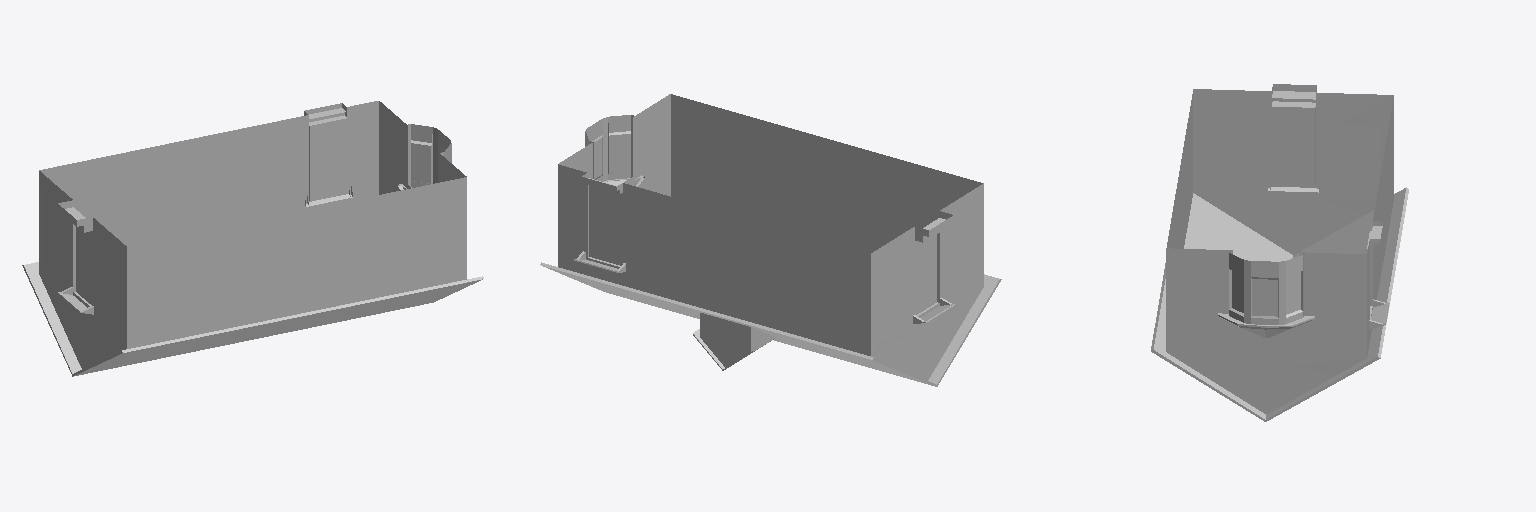
The model's file is cottage.obj.
3 views of the same model, side by side, from view 1: azimuth 30°, elevation 25°; view 2: azimuth 150°, elevation 25°; view 3: azimuth 270°, elevation 25° (orthographic).
Visible parts, largest first — view 1: Cube_Cube.002; view 2: Cube_Cube.002; view 3: Cube_Cube.002.
Part boxes in pixels (bbox=[...]): Cube_Cube.002: bbox=[22, 101, 483, 376]; Cube_Cube.002: bbox=[540, 94, 1001, 386]; Cube_Cube.002: bbox=[1151, 84, 1408, 421].
Size of the model in its own units: 67.86 by 29.35 by 41.47.